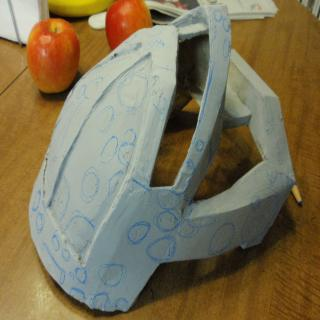Apple: (26, 16, 80, 93), (106, 0, 152, 52)
